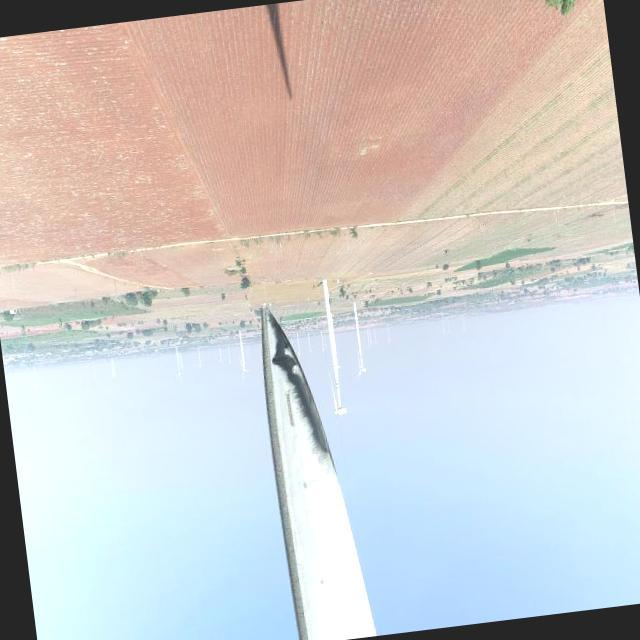Oil LEAKAGE: (268, 315, 332, 454)
Pin Hole: (270, 352, 294, 368)
